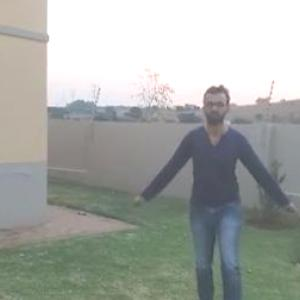land: (139, 78, 299, 298)
